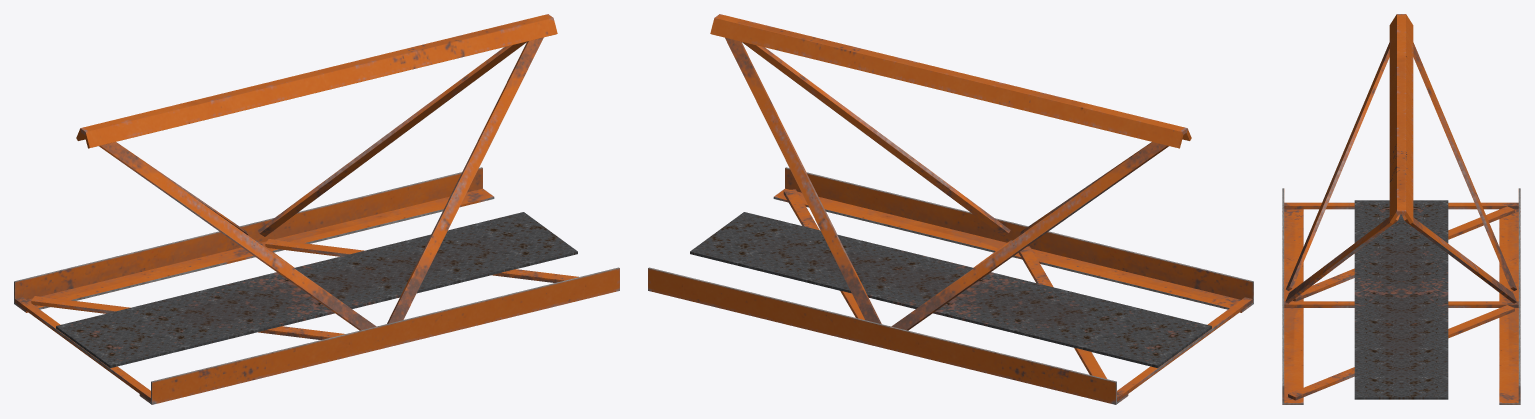
File: CraneFrontArmSection_2.fbx
3 renders of one model, left to right at view 1: azimuth 30°, elevation 25°; view 2: azimuth 150°, elevation 25°; view 3: azimuth 270°, elevation 25°, orthographic. The views are drawn at different scales.
Visible parts, largest first — view 1: Crane_Front_Arm_Section_2_LOD0; view 2: Crane_Front_Arm_Section_2_LOD0; view 3: Crane_Front_Arm_Section_2_LOD0.
Part boxes in pixels (x1,y1,x2,y2): Crane_Front_Arm_Section_2_LOD0: (14,14,619,404); Crane_Front_Arm_Section_2_LOD0: (648,14,1253,404); Crane_Front_Arm_Section_2_LOD0: (1282,14,1520,404).
Size of what is drawn, in the model's own units: 4 by 1.83 by 2.04.
